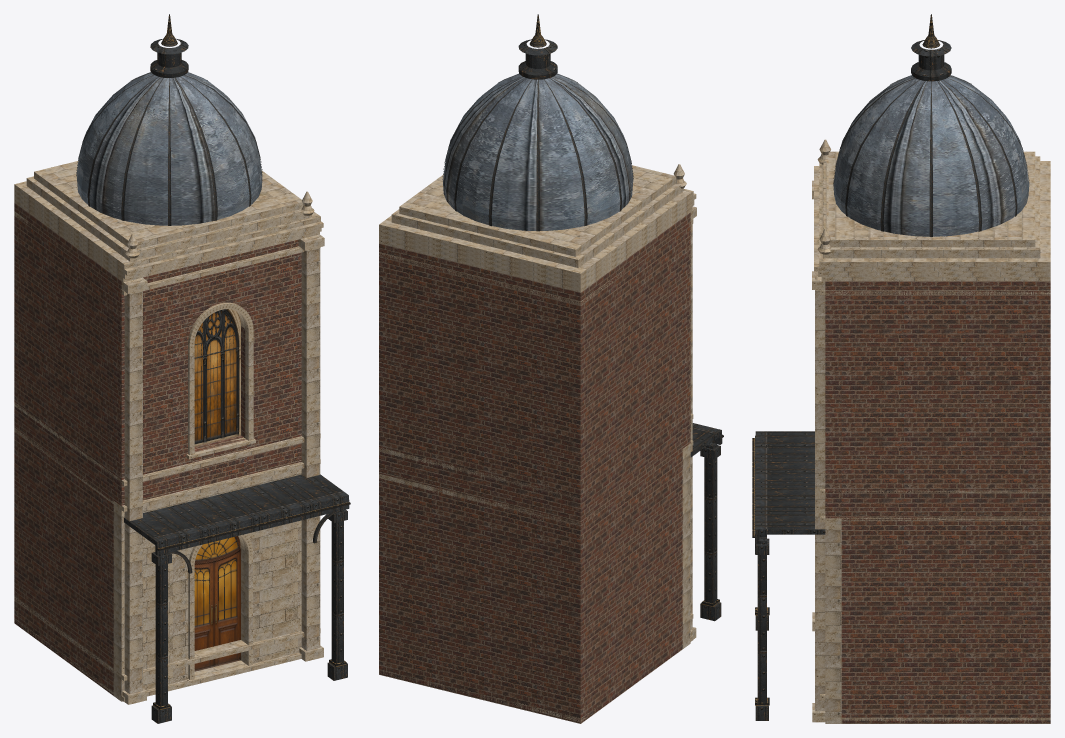
Rendered from dome_tower.glb.
3 renders of one model, left to right at view 1: azimuth 30°, elevation 25°; view 2: azimuth 150°, elevation 25°; view 3: azimuth 270°, elevation 25°, orthographic. The views are drawn at different scales.
Visible parts, largest first — view 1: dome_tower; view 2: dome_tower; view 3: dome_tower.
Boxes of the visible parts, bbox=[...] form: dome_tower: bbox=[14, 14, 350, 723]; dome_tower: bbox=[379, 14, 723, 723]; dome_tower: bbox=[752, 14, 1050, 723].
Size of the model in its own units: 8 by 24.36 by 10.
7 materials, 7 textured.
